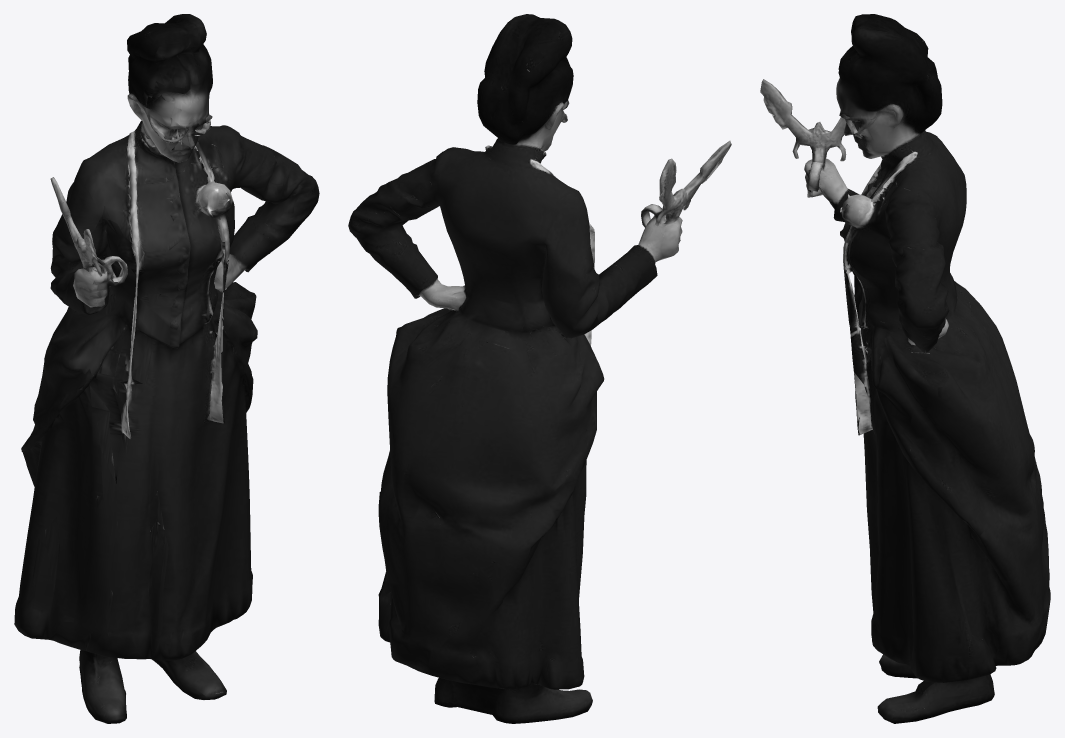
Rendered from dorcas_finch_ghost.glb.
3 renders of one model, left to right at view 1: azimuth 30°, elevation 25°; view 2: azimuth 150°, elevation 25°; view 3: azimuth 270°, elevation 25°, orthographic. The views are drawn at different scales.
Visible parts, largest first — view 1: RETOPO; view 2: RETOPO; view 3: RETOPO.
Part boxes in pixels (x1,y1,x2,y2): RETOPO: [14, 14, 319, 723]; RETOPO: [348, 14, 731, 723]; RETOPO: [760, 14, 1050, 723].
Size of the model in its own units: 0.7856 by 1.67 by 0.652.
1 material, 1 textured.
